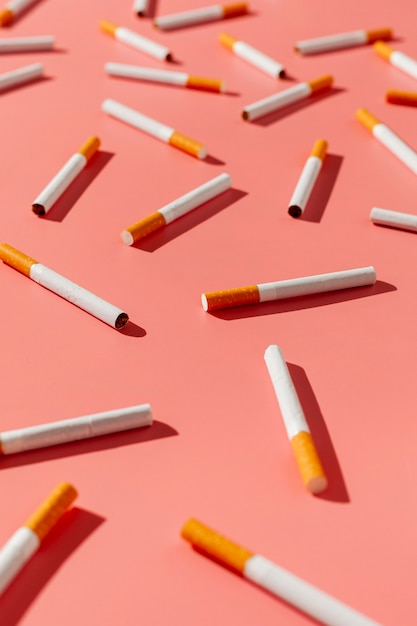cigarette: (179, 515, 383, 626), (3, 243, 129, 328), (263, 343, 331, 495), (2, 481, 78, 596), (201, 265, 378, 314), (1, 403, 154, 459), (121, 173, 234, 246), (100, 98, 205, 158), (32, 137, 101, 219), (355, 104, 417, 190), (242, 73, 334, 120), (102, 61, 221, 92), (291, 25, 395, 59), (286, 137, 330, 217), (217, 31, 286, 78), (95, 21, 171, 61), (155, 2, 251, 27), (370, 39, 417, 81), (370, 206, 417, 236), (2, 60, 42, 94), (0, 0, 45, 28), (0, 35, 54, 52), (384, 86, 417, 105), (133, 0, 153, 17)
